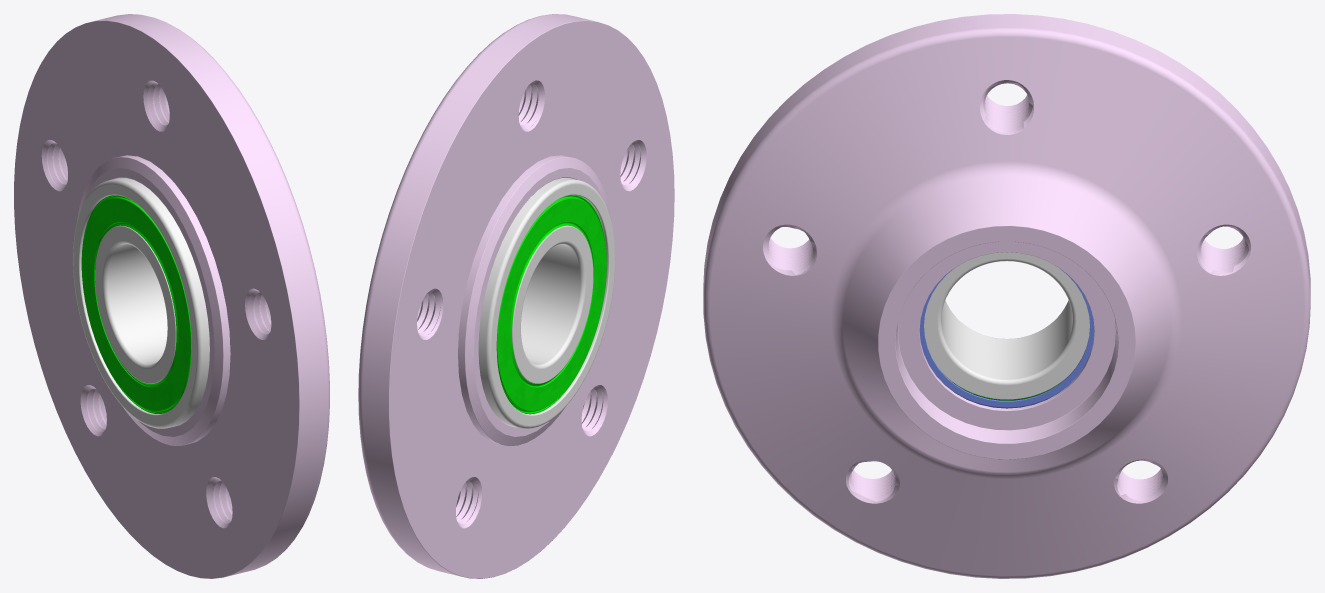
The picture shows the model from 3 angles, left to right: view 1: azimuth 30°, elevation 25°; view 2: azimuth 150°, elevation 25°; view 3: azimuth 270°, elevation 25°; orthographic projection. The views are drawn at different scales.
Parts seen in each view (by area): view 1: color, texture, texture-2, texture-4; view 2: color, texture, texture-2, texture-4; view 3: color, texture, color-2.
Part boxes in pixels (x1=…): color: x1=14, y1=14, x2=329, y2=578; texture: x1=95, y1=225, x2=176, y2=383; texture-2: x1=73, y1=178, x2=209, y2=428; texture-4: x1=81, y1=195, x2=191, y2=413; color: x1=358, y1=14, x2=674, y2=578; texture: x1=512, y1=225, x2=593, y2=383; texture-2: x1=478, y1=178, x2=615, y2=428; texture-4: x1=496, y1=195, x2=606, y2=414; color: x1=703, y1=14, x2=1310, y2=578; texture: x1=924, y1=252, x2=1089, y2=399; color-2: x1=919, y1=269, x2=1094, y2=408.
Bounding box in the file's own units: 0.035 × 0.139 × 0.139.
Materials: 8 (4 with a texture image).
